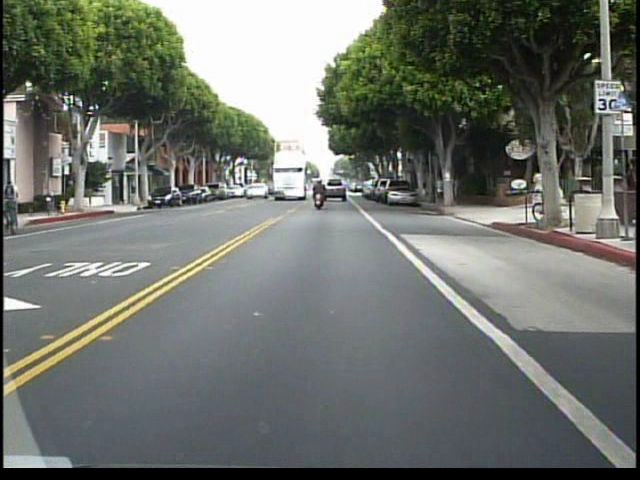person: (7, 177, 32, 231), (310, 175, 328, 215), (431, 173, 443, 206), (455, 173, 464, 202), (446, 172, 455, 201)
